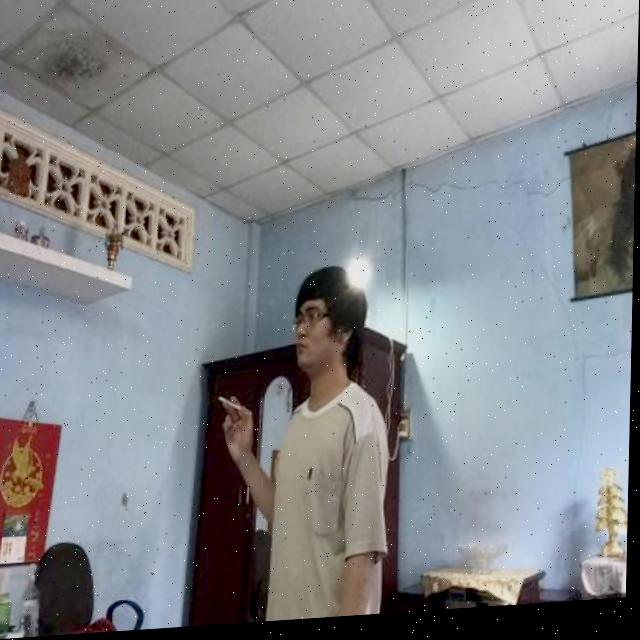cigarette: (220, 398, 244, 415)
